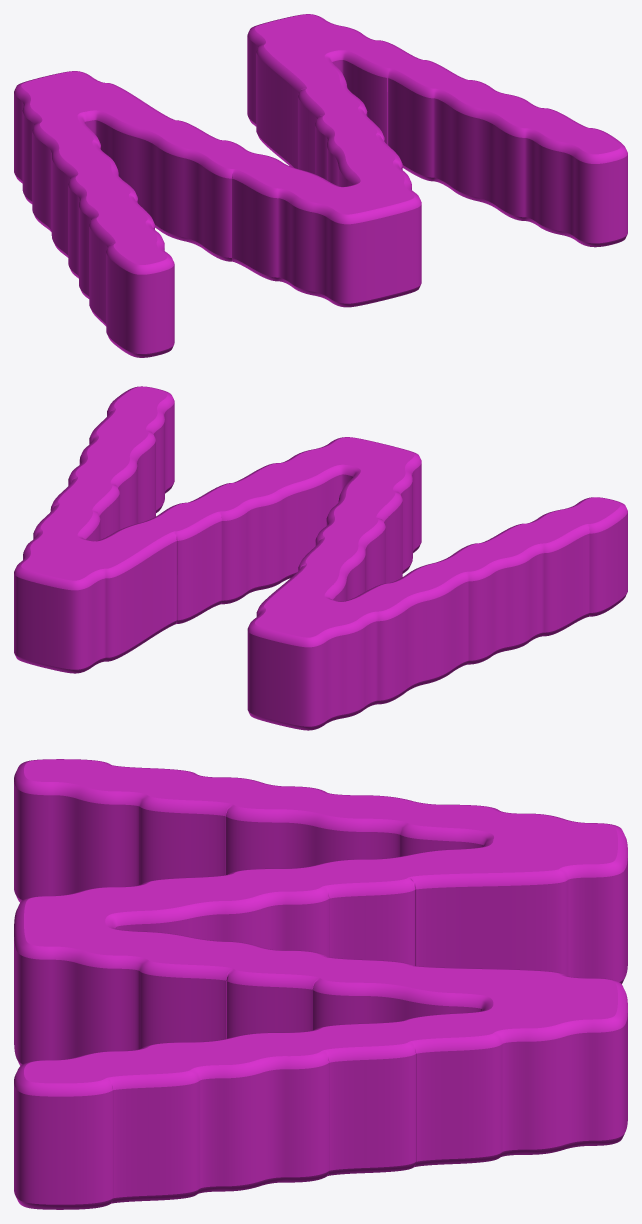
File: Blocky_LetterW.fbx
The picture shows the model from 3 angles, top to bottom: view 1: azimuth 30°, elevation 25°; view 2: azimuth 150°, elevation 25°; view 3: azimuth 270°, elevation 25°; orthographic projection. The views are drawn at different scales.
Visible parts, largest first — view 1: BlockyLetter_W; view 2: BlockyLetter_W; view 3: BlockyLetter_W.
Part boxes in pixels (x1,y1,x2,y2): BlockyLetter_W: [14, 14, 627, 357]; BlockyLetter_W: [14, 386, 627, 730]; BlockyLetter_W: [14, 759, 627, 1209].
Size of the model in its own units: 0.7916 by 0.14 by 0.618.
